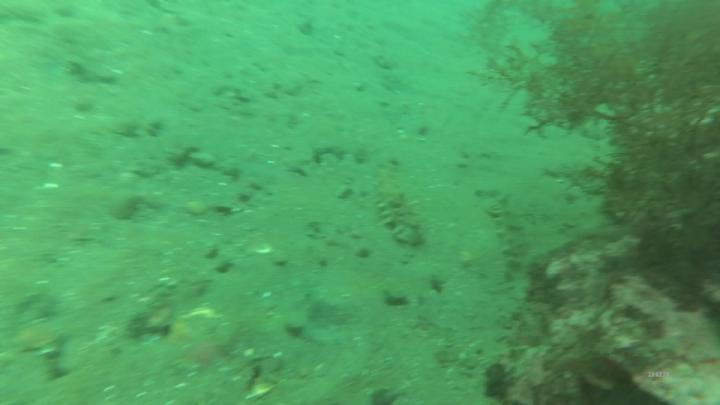holothurian: (370, 162, 430, 248)
waterweeds: (478, 2, 720, 265)
